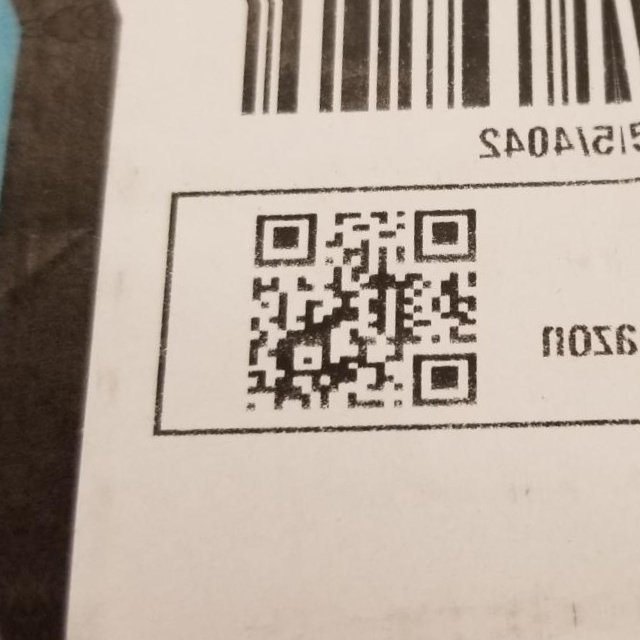qr-code: (211, 175, 509, 449)
